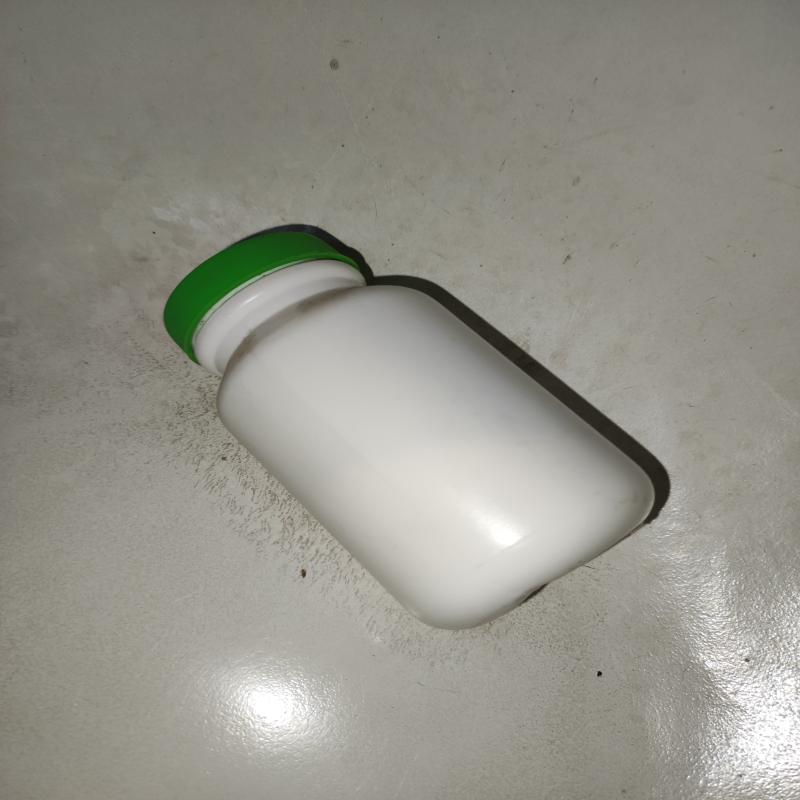plastic bottle: (163, 231, 656, 633)
